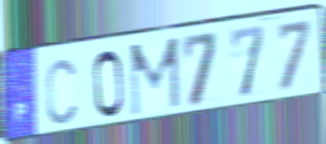0: (91, 47, 124, 120)
7: (182, 30, 221, 111), (228, 22, 266, 102), (276, 16, 313, 94)
C: (44, 56, 78, 127)
M: (128, 35, 182, 120)
